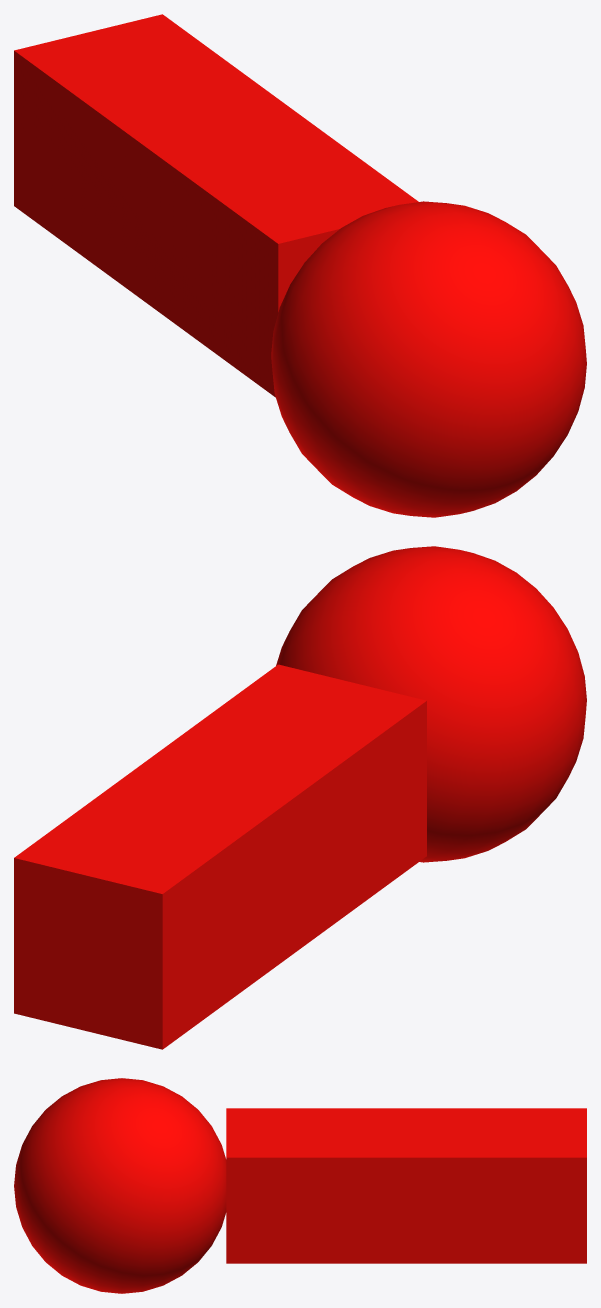
Rendered from enemy.glb.
The picture shows the model from 3 angles, top to bottom: view 1: azimuth 30°, elevation 25°; view 2: azimuth 150°, elevation 25°; view 3: azimuth 270°, elevation 25°; orthographic projection. The views are drawn at different scales.
Visible parts, largest first — view 1: Dummy; view 2: Dummy; view 3: Dummy.
Part boxes in pixels (x1,y1,x2,y2): Dummy: (14,14,586,517); Dummy: (14,546,586,1049); Dummy: (14,1078,586,1293).
Size of the model in its own units: 0.6227 by 0.6227 by 1.65.
1 material, 1 textured.
